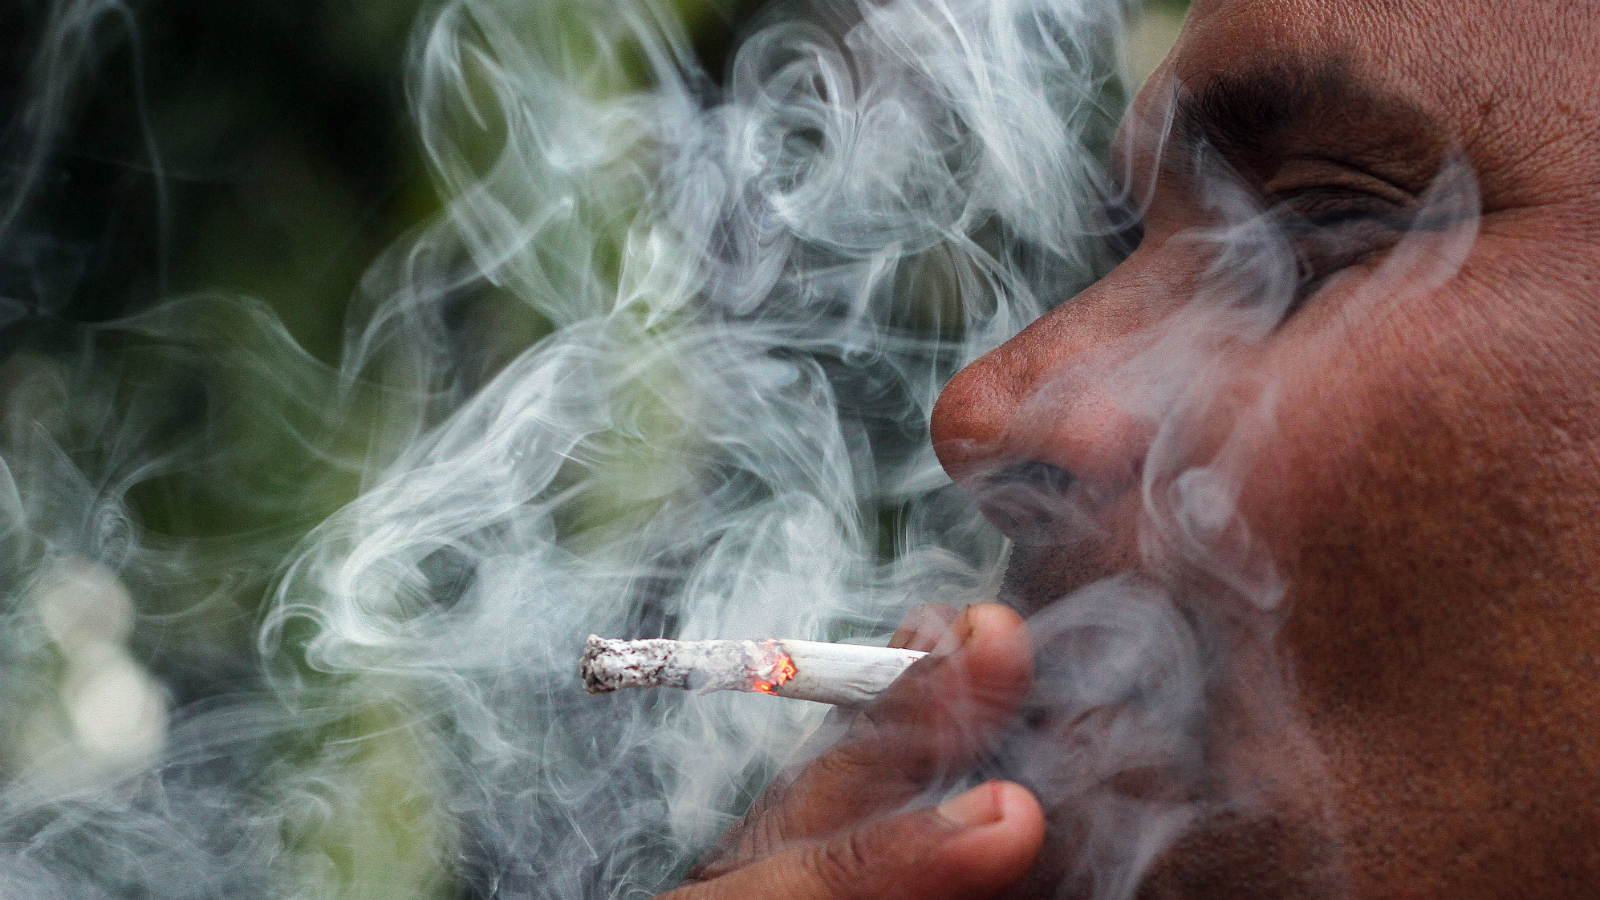cigarette: (570, 605, 970, 716)
